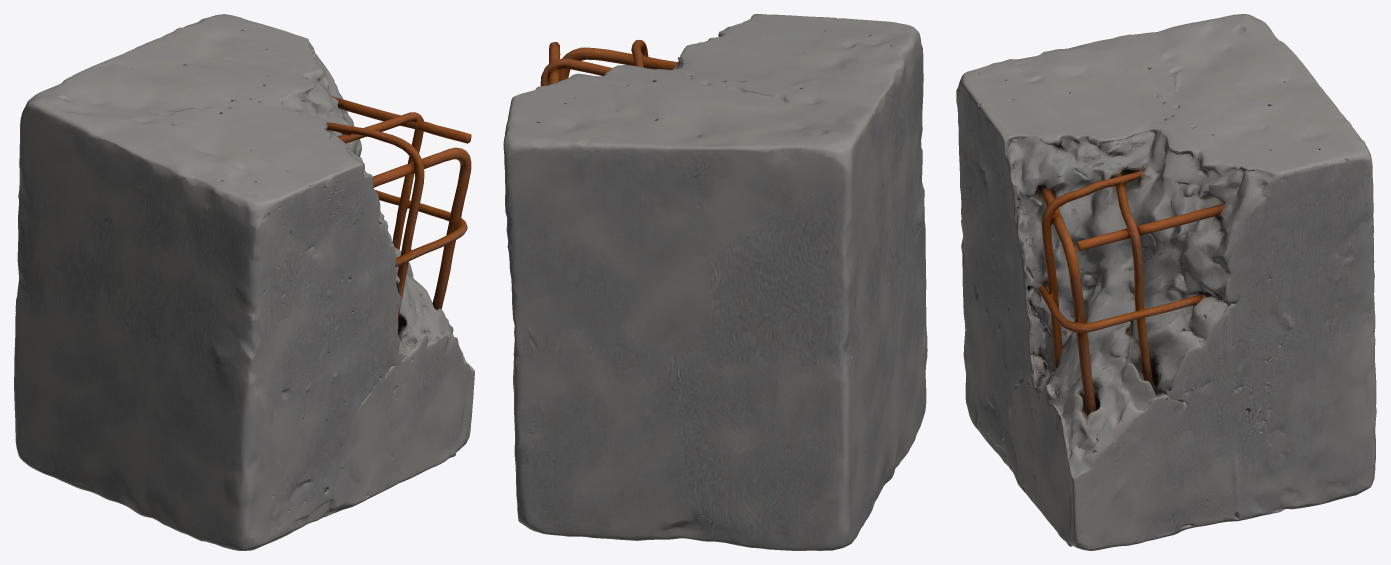
The model's file is spalled-column.glb.
3 views of the same model, side by side, from view 1: azimuth 30°, elevation 25°; view 2: azimuth 150°, elevation 25°; view 3: azimuth 270°, elevation 25° (orthographic). The views are drawn at different scales.
Parts seen in each view (by area): view 1: tripo_node_40bff7e3-ef8d-4ca1-8eef-b9ed8968a12e; view 2: tripo_node_40bff7e3-ef8d-4ca1-8eef-b9ed8968a12e; view 3: tripo_node_40bff7e3-ef8d-4ca1-8eef-b9ed8968a12e.
Boxes of the visible parts, <box> form: tripo_node_40bff7e3-ef8d-4ca1-8eef-b9ed8968a12e: <box>14,14,474,550</box>; tripo_node_40bff7e3-ef8d-4ca1-8eef-b9ed8968a12e: <box>503,14,927,550</box>; tripo_node_40bff7e3-ef8d-4ca1-8eef-b9ed8968a12e: <box>956,14,1376,550</box>.
Size of the model in its own units: 0.9978 by 0.9799 by 1.
Materials: 1 (1 with a texture image).
